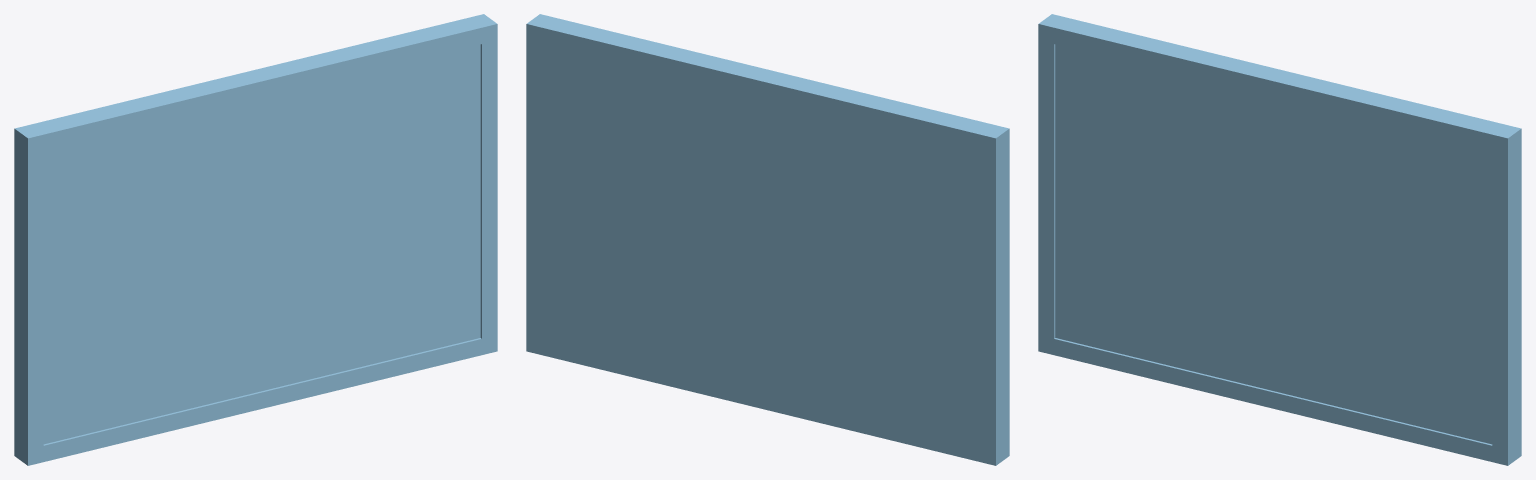
The model's file is board.fbx.
3 views of the same model, side by side, from view 1: azimuth 30°, elevation 25°; view 2: azimuth 150°, elevation 25°; view 3: azimuth 330°, elevation 25° (orthographic).
Visible parts, largest first — view 1: 5bc86f2327447a14cb725179; view 2: 5bc86f2327447a14cb725179; view 3: 5bc86f2327447a14cb725179.
Boxes of the visible parts, box(x1,y1,x2,y2) form: 5bc86f2327447a14cb725179: box(14, 14, 497, 465); 5bc86f2327447a14cb725179: box(526, 14, 1009, 465); 5bc86f2327447a14cb725179: box(1038, 14, 1521, 465).
Size of the model in its own units: 0.6 by 0.03 by 0.4.
